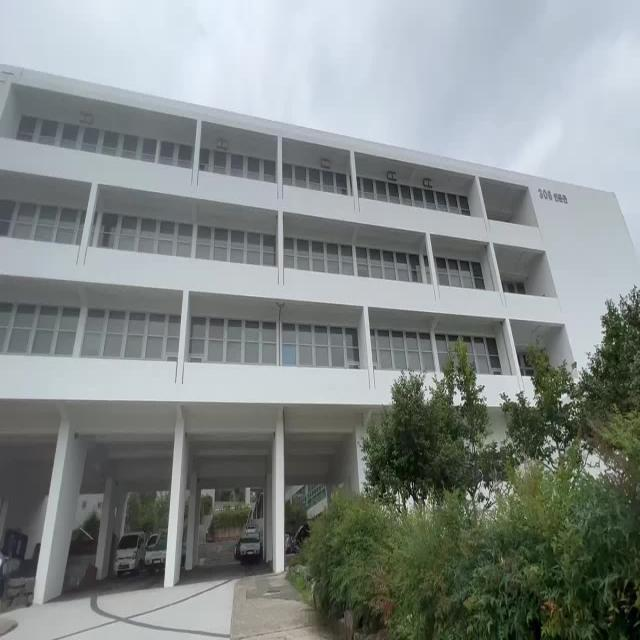building: (9, 58, 363, 414)
